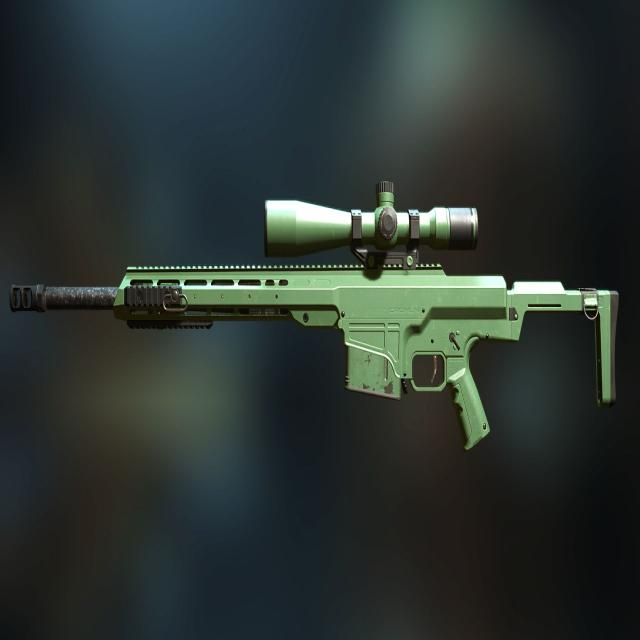Rifle: (7, 183, 619, 453)
